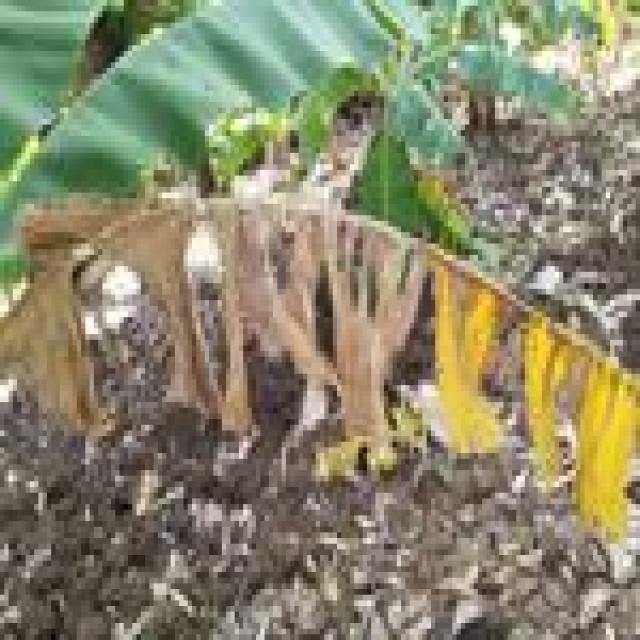Early_rust: (311, 194, 640, 536)
